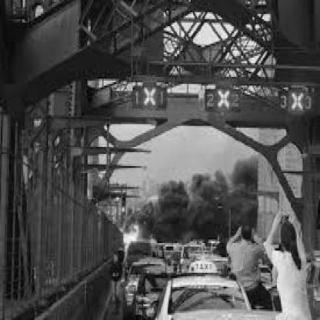Fire: (114, 218, 140, 245)
other: (137, 79, 161, 111)
